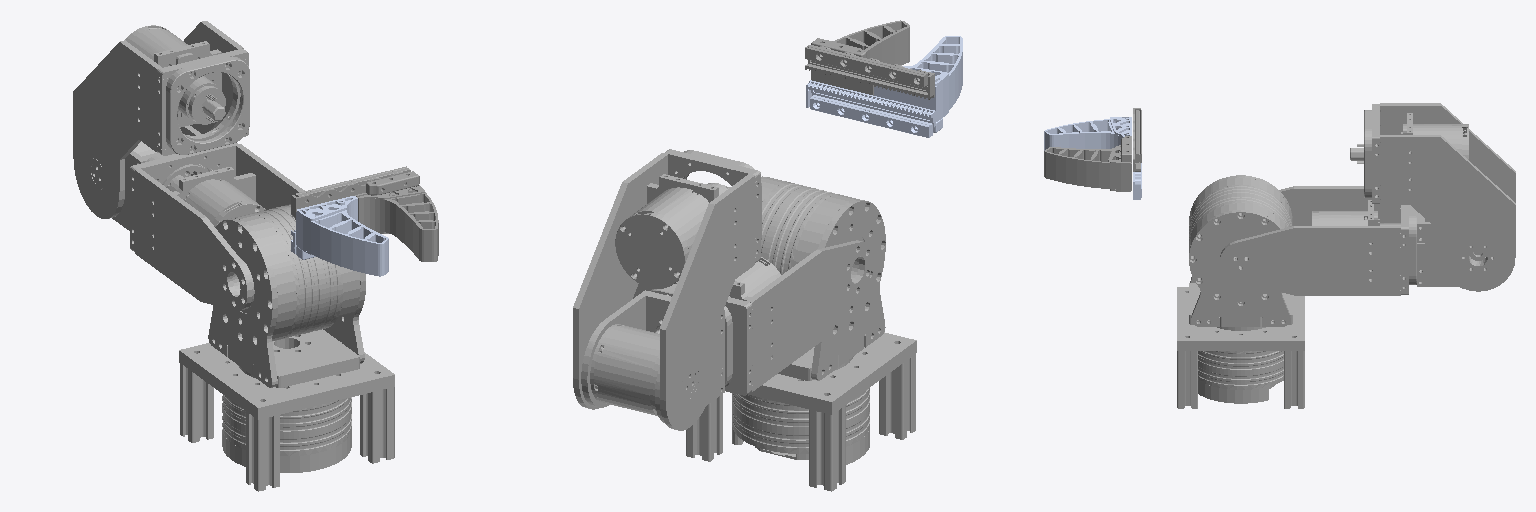
URDF robot description (JGarm):
<?xml version="1.0" encoding="utf-8"?>
<!-- This URDF was automatically created by SolidWorks to URDF Exporter! Originally created by Stephen Brawner (brawner@gmail.com) 
     Commit Version: 1.6.0-4-g7f85cfe  Build Version: 1.6.7995.38578
     For more information, please see http://wiki.ros.org/sw_urdf_exporter -->
<robot
  name="JGarm" >
  <link
    name="base_link">
    <inertial>
      <origin
        xyz="1.6597040082944E-05 -0.000583897618939415 -0.0290727889361823"
        rpy="0 0 0" />
      <mass
        value="0.834091199846075" />
      <inertia
        ixx="0.000759287868564896"
        ixy="3.81591929609721E-09"
        ixz="-1.14938781931239E-08"
        iyy="0.00077967505308333"
        iyz="9.79082652759006E-09"
        izz="0.0013518621079703" />
    </inertial>
    <visual>
      <origin
        xyz="0 0 0"
        rpy="0 0 0" />
      <geometry>
        <mesh
          filename="package://arm_description/meshes/base_link.STL" />
      </geometry>
      <material
        name="">
        <color
          rgba="0.752941176470588 0.752941176470588 0.752941176470588 1" />
      </material>
    </visual>
    <collision>
      <origin
        xyz="0 0 0"
        rpy="0 0 0" />
      <geometry>
        <mesh
          filename="package://arm_description/meshes/base_link.STL" />
      </geometry>
    </collision>
  </link>
  <link
    name="Link1">
    <inertial>
      <origin
        xyz="-1.63417529294587E-05 -0.00107670328319376 0.052812053974336"
        rpy="0 0 0" />
      <mass
        value="0.847121183199139" />
      <inertia
        ixx="0.000644082060425122"
        ixy="-1.14938781929732E-08"
        ixz="3.81591929407754E-09"
        iyy="0.00107727738781247"
        iyz="3.81937920148665E-09"
        izz="0.000742570348852084" />
    </inertial>
    <visual>
      <origin
        xyz="0 0 0"
        rpy="0 0 0" />
      <geometry>
        <mesh
          filename="package://arm_description/meshes/Link1.STL" />
      </geometry>
      <material
        name="">
        <color
          rgba="0.752941176470588 0.752941176470588 0.752941176470588 1" />
      </material>
    </visual>
    <collision>
      <origin
        xyz="0 0 0"
        rpy="0 0 0" />
      <geometry>
        <mesh
          filename="package://arm_description/meshes/Link1.STL" />
      </geometry>
    </collision>
  </link>
  <joint
    name="joint1"
    type="revolute">
    <origin
      xyz="0 0 0"
      rpy="0 0 -1.5707963267949" />
    <parent
      link="base_link" />
    <child
      link="Link1" />
    <axis
      xyz="0 0 1" />
    <limit
      lower="-3.14"
      upper="3.14"
      effort="0"
      velocity="0" />
  </joint>
  <link
    name="Link2">
    <inertial>
      <origin
        xyz="5.36664595403302E-06 0.103764432604526 -0.0418174573010499"
        rpy="0 0 0" />
      <mass
        value="0.401518367884551" />
      <inertia
        ixx="0.0004464384168239"
        ixy="1.41344100062504E-08"
        ixz="6.60830868642722E-08"
        iyy="0.000211404280804092"
        iyz="-4.10366275683613E-08"
        izz="0.000480321714210828" />
    </inertial>
    <visual>
      <origin
        xyz="0 0 0"
        rpy="0 0 0" />
      <geometry>
        <mesh
          filename="package://arm_description/meshes/Link2.STL" />
      </geometry>
      <material
        name="">
        <color
          rgba="0.752941176470588 0.752941176470588 0.752941176470588 1" />
      </material>
    </visual>
    <collision>
      <origin
        xyz="0 0 0"
        rpy="0 0 0" />
      <geometry>
        <mesh
          filename="package://arm_description/meshes/Link2.STL" />
      </geometry>
    </collision>
  </link>
  <joint
    name="joint2"
    type="revolute">
    <origin
      xyz="0 -0.0415 0.07"
      rpy="1.5707963267949 -1.5707963267949 0" />
    <parent
      link="Link1" />
    <child
      link="Link2" />
    <axis
      xyz="0 0 1" />
    <limit
      lower="-3.14"
      upper="0"
      effort="0"
      velocity="0" />
  </joint>
  <link
    name="Link3">
    <inertial>
      <origin
        xyz="-2.83032937796607E-05 0.000124587559265477 0.0419842600779911"
        rpy="0 0 0" />
      <mass
        value="0.294798949952439" />
      <inertia
        ixx="0.000127831321238693"
        ixy="1.19829409558102E-08"
        ixz="1.03859660940149E-07"
        iyy="0.000182511516861534"
        iyz="3.17207228749505E-08"
        izz="0.000119655862610907" />
    </inertial>
    <visual>
      <origin
        xyz="0 0 0"
        rpy="0 0 0" />
      <geometry>
        <mesh
          filename="package://arm_description/meshes/Link3.STL" />
      </geometry>
      <material
        name="">
        <color
          rgba="0.752941176470588 0.752941176470588 0.752941176470588 1" />
      </material>
    </visual>
    <collision>
      <origin
        xyz="0 0 0"
        rpy="0 0 0" />
      <geometry>
        <mesh
          filename="package://arm_description/meshes/Link3.STL" />
      </geometry>
    </collision>
  </link>
  <joint
    name="joint3"
    type="revolute">
    <origin
      xyz="0 0.164999999999999 -0.0415000000000003"
      rpy="1.5707963267949 0 3.14159265358979" />
    <parent
      link="Link2" />
    <child
      link="Link3" />
    <axis
      xyz="0 0 1" />
    <limit
      lower="-3.14"
      upper="3.14"
      effort="0"
      velocity="0" />
  </joint>
  <link
    name="Link4">
    <inertial>
      <origin
        xyz="-0.0449802929917641 0.0730142106812447 -0.0330190153704344"
        rpy="0 0 0" />
      <mass
        value="0.416206536361352" />
      <inertia
        ixx="0.000444269987107656"
        ixy="0.000166237462663675"
        ixz="-8.39361831143267E-10"
        iyy="0.000315629621584573"
        iyz="8.77739209569369E-08"
        izz="0.000637357162002271" />
    </inertial>
    <visual>
      <origin
        xyz="0 0 0"
        rpy="0 0 0" />
      <geometry>
        <mesh
          filename="package://arm_description/meshes/Link4.STL" />
      </geometry>
      <material
        name="">
        <color
          rgba="0.752941176470588 0.752941176470588 0.752941176470588 1" />
      </material>
    </visual>
    <collision>
      <origin
        xyz="0 0 0"
        rpy="0 0 0" />
      <geometry>
        <mesh
          filename="package://arm_description/meshes/Link4.STL" />
      </geometry>
    </collision>
  </link>
  <joint
    name="joint4"
    type="revolute">
    <origin
      xyz="0 -0.0329999999999999 0.058"
      rpy="1.5707963267949 -1.5707963267949 0" />
    <parent
      link="Link3" />
    <child
      link="Link4" />
    <axis
      xyz="0 0 -1" />
    <limit
      lower="0"
      upper="3.14"
      effort="0"
      velocity="0" />
  </joint>
  <link
    name="Link5">
    <inertial>
      <origin
        xyz="-0.0253924806496637 2.3305207997204E-05 0.0557816492095522"
        rpy="0 0 0" />
      <mass
        value="0.366890215934743" />
      <inertia
        ixx="0.000378112765865147"
        ixy="-3.93184889621583E-08"
        ixz="1.81967277695259E-05"
        iyy="0.000364958433772039"
        iyz="-2.45441714670371E-08"
        izz="0.000147779927842952" />
    </inertial>
    <visual>
      <origin
        xyz="0 0 0"
        rpy="0 0 0" />
      <geometry>
        <mesh
          filename="package://arm_description/meshes/Link5.STL" />
      </geometry>
      <material
        name="">
        <color
          rgba="0.752941176470588 0.752941176470588 0.752941176470588 1" />
      </material>
    </visual>
    <collision>
      <origin
        xyz="0 0 0"
        rpy="0 0 0" />
      <geometry>
        <mesh
          filename="package://arm_description/meshes/Link5.STL" />
      </geometry>
    </collision>
  </link>
  <joint
    name="joint5"
    type="revolute">
    <origin
      xyz="-0.106999999999997 0.0899999999999857 -0.0330000000000001"
      rpy="1.5707963267949 0 -1.5707963267949" />
    <parent
      link="Link4" />
    <child
      link="Link5" />
    <axis
      xyz="0 0 1" />
    <limit
      lower="-3.14"
      upper="3.14"
      effort="0"
      velocity="0" />
  </joint>
  <link
    name="Link6">
    <inertial>
      <origin
        xyz="0.0634928917808329 0.000101457930602011 -0.0238280687100722"
        rpy="0 0 0" />
      <mass
        value="0.340908367076596" />
      <inertia
        ixx="0.00019521794279127"
        ixy="3.26816785595926E-07"
        ixz="9.11791193628531E-05"
        iyy="0.00040273067972366"
        iyz="-7.13801440652303E-07"
        izz="0.000381133333907566" />
    </inertial>
    <visual>
      <origin
        xyz="0 0 0"
        rpy="0 0 0" />
      <geometry>
        <mesh
          filename="package://arm_description/meshes/Link6.STL" />
      </geometry>
      <material
        name="">
        <color
          rgba="0.752941176470588 0.752941176470588 0.752941176470588 1" />
      </material>
    </visual>
    <collision>
      <origin
        xyz="0 0 0"
        rpy="0 0 0" />
      <geometry>
        <mesh
          filename="package://arm_description/meshes/Link6.STL" />
      </geometry>
    </collision>
  </link>
  <joint
    name="joint6"
    type="revolute">
    <origin
      xyz="-0.043000000000004 0 0.182928571428574"
      rpy="3.14159265358979 1.5707963267949 0" />
    <parent
      link="Link5" />
    <child
      link="Link6" />
    <axis
      xyz="0 0 1" />
    <limit
      lower="-1.57"
      upper="1.57"
      effort="0"
      velocity="0" />
  </joint>
  <link
    name="Link7">
    <inertial>
      <origin
        xyz="-4.37432830491247E-05 -1.64405706729043E-06 -0.0324883146742651"
        rpy="0 0 0" />
      <mass
        value="0.21580525137654" />
      <inertia
        ixx="6.02846318149207E-05"
        ixy="-2.45163342662783E-08"
        ixz="3.89080075347704E-08"
        iyy="5.51582119868717E-05"
        iyz="-6.38244706779658E-10"
        izz="9.5637965304336E-05" />
    </inertial>
    <visual>
      <origin
        xyz="0 0 0"
        rpy="0 0 0" />
      <geometry>
        <mesh
          filename="package://arm_description/meshes/Link7.STL" />
      </geometry>
      <material
        name="">
        <color
          rgba="0.894117647058823 0.894117647058823 0.894117647058823 1" />
      </material>
    </visual>
    <collision>
      <origin
        xyz="0 0 0"
        rpy="0 0 0" />
      <geometry>
        <mesh
          filename="package://arm_description/meshes/Link7.STL" />
      </geometry>
    </collision>
  </link>
  <joint
    name="joint7"
    type="revolute">
    <origin
      xyz="0.0455000000000024 0 -0.0430000000000043"
      rpy="1.5707963267949 0 1.5707963267949" />
    <parent
      link="Link6" />
    <child
      link="Link7" />
    <axis
      xyz="0 0 1" />
    <limit
      lower="-3.14"
      upper="3.14"
      effort="0"
      velocity="0" />
  </joint>
  <link
    name="Link8">
    <inertial>
      <origin
        xyz="-0.00968867111548662 -0.0110715617214339 -0.014245790690963"
        rpy="0 0 0" />
      <mass
        value="0.0971480319510174" />
      <inertia
        ixx="5.19875804655301E-05"
        ixy="-4.93484676952134E-08"
        ixz="2.84447215759156E-07"
        iyy="6.81376916856195E-05"
        iyz="1.34162201266244E-07"
        izz="2.15593314230731E-05" />
    </inertial>
    <visual>
      <origin
        xyz="0 0 0"
        rpy="0 0 0" />
      <geometry>
        <mesh
          filename="package://arm_description/meshes/Link8.STL" />
      </geometry>
      <material
        name="">
        <color
          rgba="0.698039215686274 0.698039215686274 0.698039215686274 1" />
      </material>
    </visual>
    <collision>
      <origin
        xyz="0 0 0"
        rpy="0 0 0" />
      <geometry>
        <mesh
          filename="package://arm_description/meshes/Link8.STL" />
      </geometry>
    </collision>
  </link>
  <joint
    name="joint8"
    type="prismatic">
    <origin
      xyz="0 0 -0.0780000000000003"
      rpy="3.14159265358979 -1.5707963267949 0" />
    <parent
      link="Link7" />
    <child
      link="Link8" />
    <axis
      xyz="0 0 1" />
    <limit
      lower="-0.032"
      upper="0"
      effort="0"
      velocity="0" />
  </joint>
  <link
    name="Link9">
    <inertial>
      <origin
        xyz="-0.00968867111547593 0.0110715617214437 0.0142457906909583"
        rpy="0 0 0" />
      <mass
        value="0.0971480319510173" />
      <inertia
        ixx="5.19875804655273E-05"
        ixy="4.93484676952267E-08"
        ixz="-2.84447215758978E-07"
        iyy="6.81376916856164E-05"
        iyz="1.34162201265551E-07"
        izz="2.15593314230727E-05" />
    </inertial>
    <visual>
      <origin
        xyz="0 0 0"
        rpy="0 0 0" />
      <geometry>
        <mesh
          filename="package://arm_description/meshes/Link9.STL" />
      </geometry>
      <material
        name="">
        <color
          rgba="0.866666666666667 0.909803921568627 1 1" />
      </material>
    </visual>
    <collision>
      <origin
        xyz="0 0 0"
        rpy="0 0 0" />
      <geometry>
        <mesh
          filename="package://arm_description/meshes/Link9.STL" />
      </geometry>
    </collision>
  </link>
  <joint
    name="joint9"
    type="prismatic">
    <origin
      xyz="0 0 -0.0780000000000003"
      rpy="3.14159265358979 -1.5707963267949 0" />
    <parent
      link="Link7" />
    <child
      link="Link9" />
    <axis
      xyz="0 0 1" />
    <limit
      lower="0"
      upper="0.032"
      effort="0"
      velocity="0" />
  </joint>
  <link
    name="tcp" />
  <joint
    name="joint_tcp"
    type="fixed">
    <origin
      xyz="0 0 -0.1173872"
      rpy="-1.5707963267949 1.5707963267949 0" />
    <parent
      link="Link7" />
    <child
      link="tcp" />
  </joint>
</robot>

--- Render facts (derived) ---
Views: 3 orthographic renders of the robot side by side, from view 1: azimuth 30°, elevation 25°; view 2: azimuth 150°, elevation 25°; view 3: azimuth 270°, elevation 25°.
Robot: JGarm — 11 links, 10 joints (7 revolute, 2 prismatic, 1 fixed); root link base_link; default pose: all joints at 0.
Links seen in each view (by area): view 1: Link4, base_link, Link1, Link2, Link8, Link9, Link3; view 2: Link4, base_link, Link2, Link1, Link3, Link9, Link8; view 3: Link4, Link2, Link1, base_link, Link8, Link9, Link3.
Link boxes in pixels (bbox=[...]): Link4: bbox=[73, 21, 249, 218]; base_link: bbox=[179, 343, 394, 491]; Link1: bbox=[208, 204, 365, 387]; Link2: bbox=[130, 143, 304, 310]; Link8: bbox=[291, 166, 438, 261]; Link9: bbox=[291, 196, 388, 276]; Link3: bbox=[91, 125, 208, 230]; Link4: bbox=[573, 149, 761, 430]; base_link: bbox=[686, 332, 916, 491]; Link2: bbox=[633, 240, 871, 395]; Link1: bbox=[761, 176, 885, 380]; Link3: bbox=[581, 290, 724, 422]; Link9: bbox=[806, 36, 962, 137]; Link8: bbox=[805, 20, 934, 99]; Link4: bbox=[1350, 103, 1515, 291]; Link2: bbox=[1220, 186, 1416, 295]; Link1: bbox=[1189, 175, 1292, 326]; base_link: bbox=[1177, 287, 1304, 408]; Link8: bbox=[1044, 108, 1141, 191]; Link9: bbox=[1044, 117, 1141, 199]; Link3: bbox=[1417, 212, 1487, 286].
Size in the robot's own frame: 0.12 by 0.4427 by 0.271 metres.
7 mesh visuals loaded from 10 distinct referenced files (7 binary STL); not drawn: 3 (reference not matched to a file when rendering).
